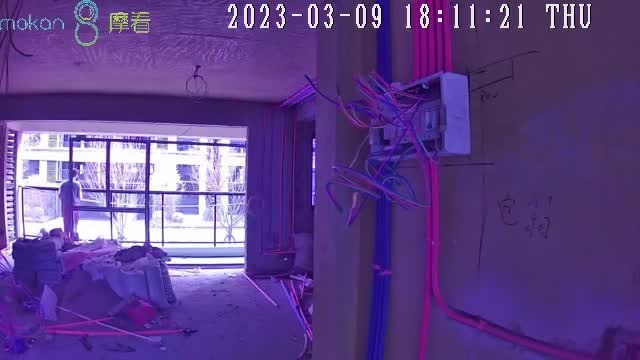people: (57, 168, 82, 241)
window: (14, 130, 246, 257)
